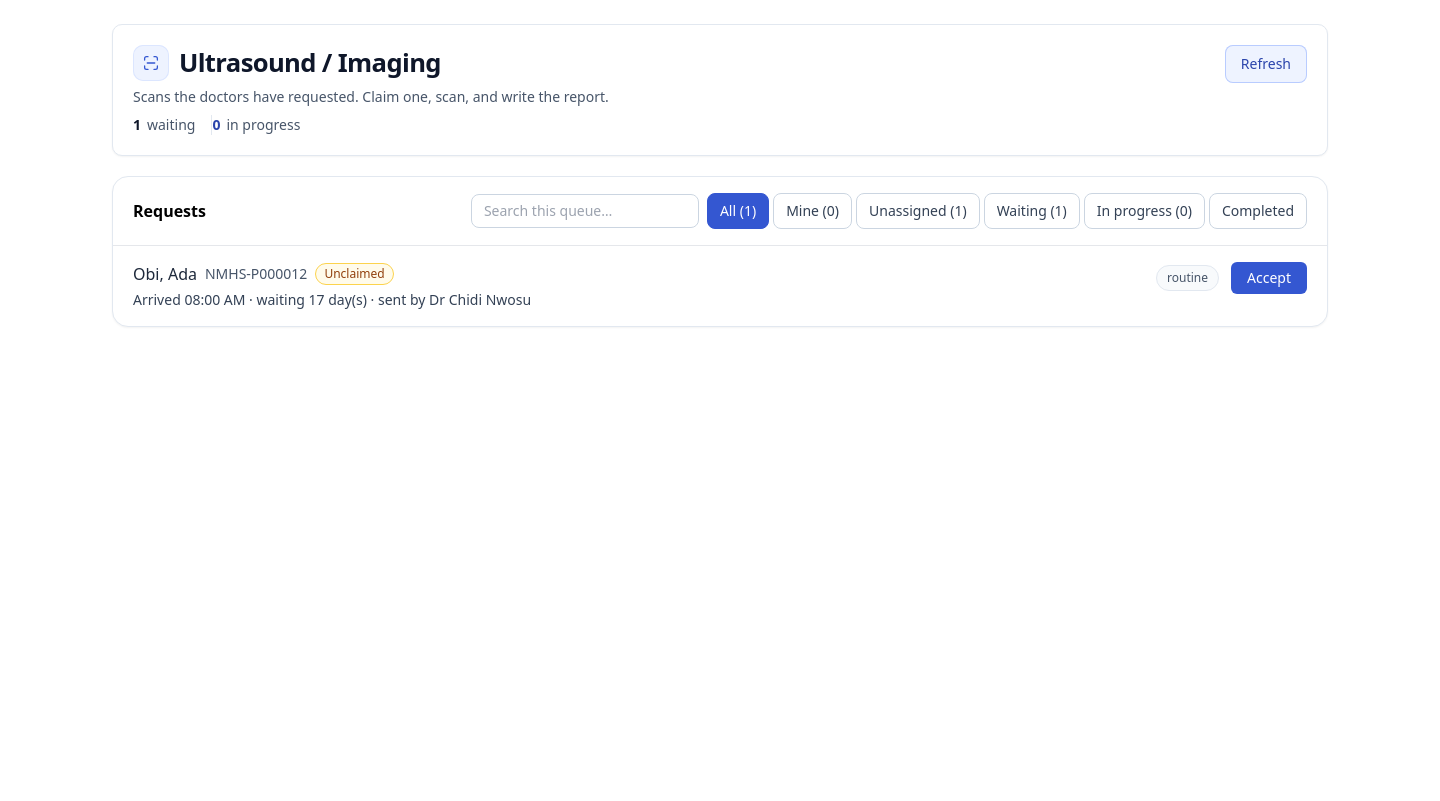
Scenario: the Accept control on a referral › accepts the referral exactly as it always did
Click the button "Accept" at (1269, 278), box [1231,262,1307,294]
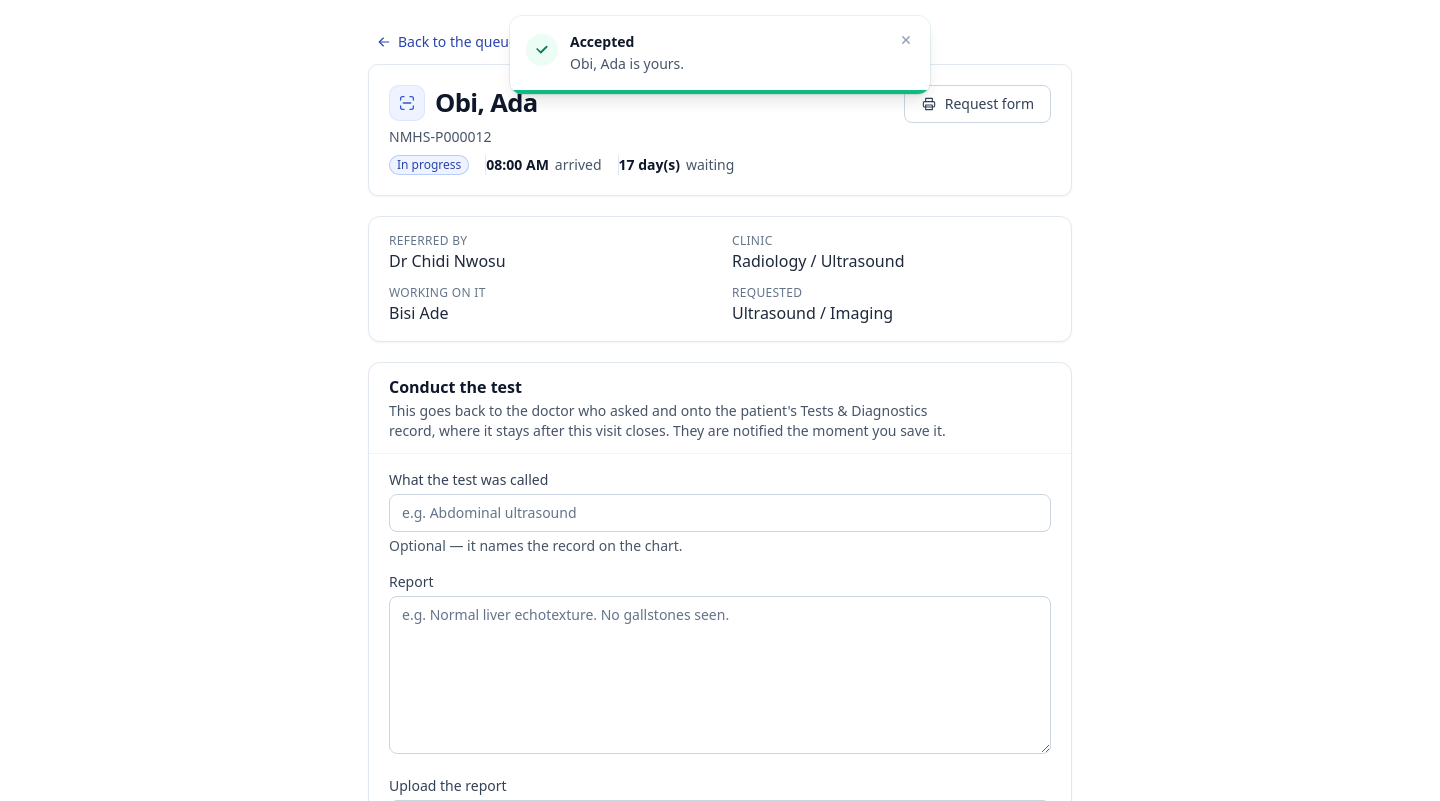
Note: And the control is spent: back on the queue, the row reads Accepted.
Click the button "Back to the queue" at (446, 42), box [368,24,525,60]
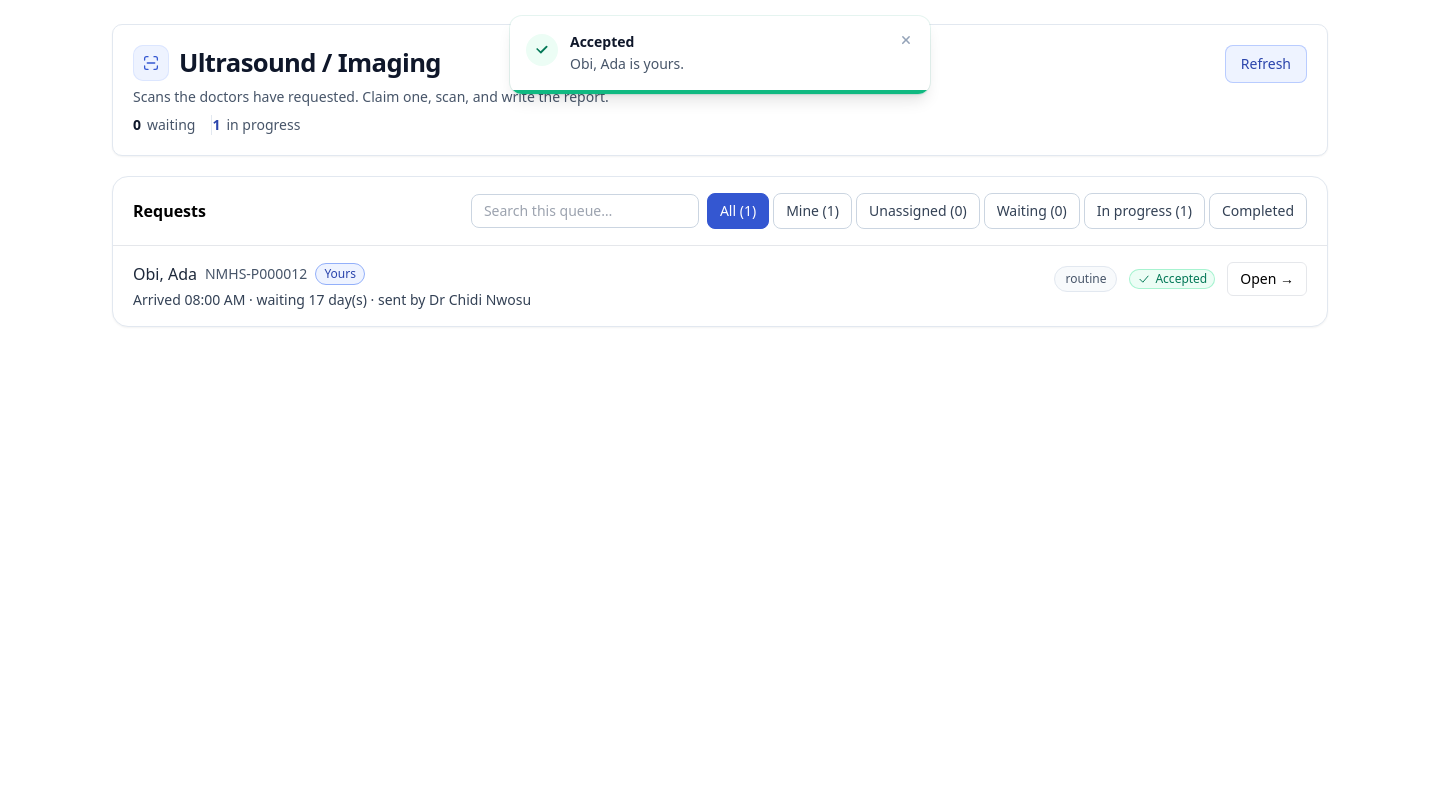
Now the text "Accepted" is shown, box [1129,269,1215,289]
